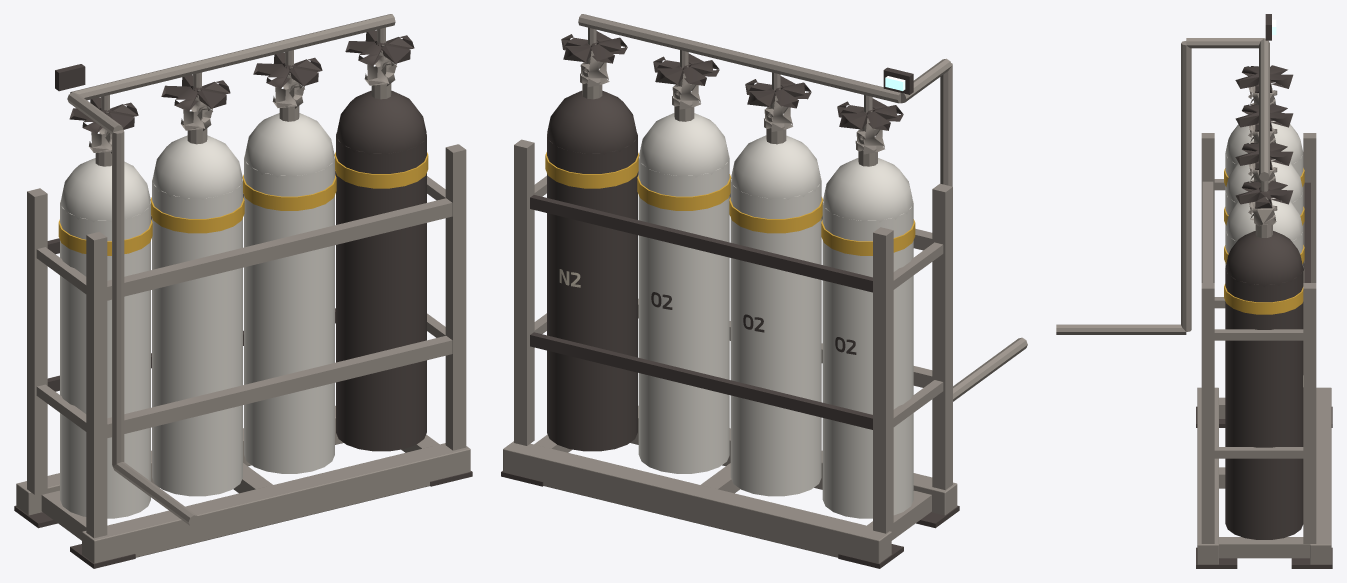
Rendered from prop_oxygen_maker.glb.
The picture shows the model from 3 angles, left to right: view 1: azimuth 30°, elevation 25°; view 2: azimuth 150°, elevation 25°; view 3: azimuth 270°, elevation 25°; orthographic projection. The views are drawn at different scales.
Visible parts, largest first — view 1: body-col, detail-col; view 2: body-col, detail-col; view 3: body-col, detail-col.
Boxes of the visible parts, <box> form: body-col: <box>14,30,472,568</box>; detail-col: <box>55,14,395,526</box>; body-col: <box>501,31,959,568</box>; detail-col: <box>559,14,1027,401</box>; body-col: <box>1196,65,1332,568</box>; detail-col: <box>1056,14,1304,386</box>.
Size of the model in its own units: 1.73 by 2.03 by 1.27.
